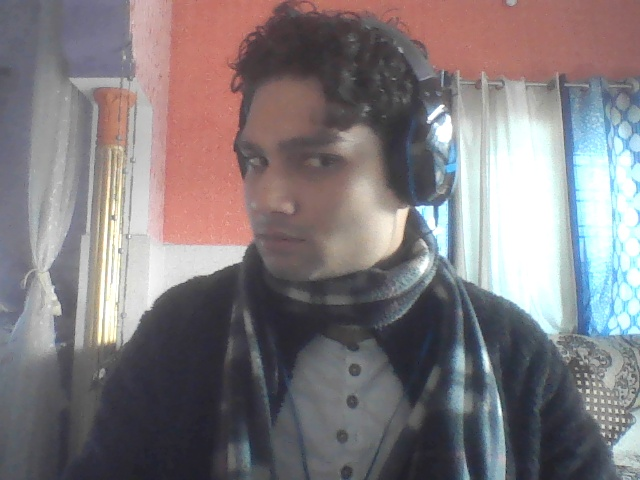real: (216, 1, 428, 301)
